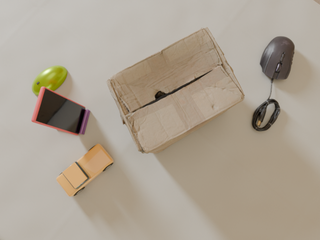box: (106, 27, 244, 153)
mouse: (260, 36, 295, 83), (32, 66, 67, 95)
phone: (31, 86, 85, 135)
toy_car: (56, 144, 114, 197)
